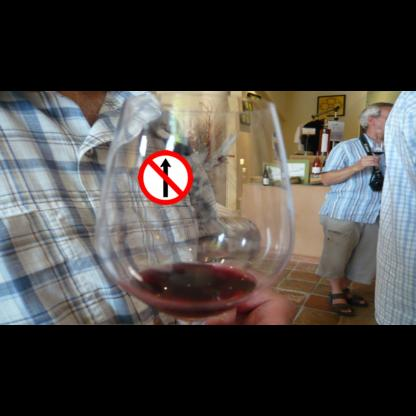R-3: (138, 150, 193, 205)
